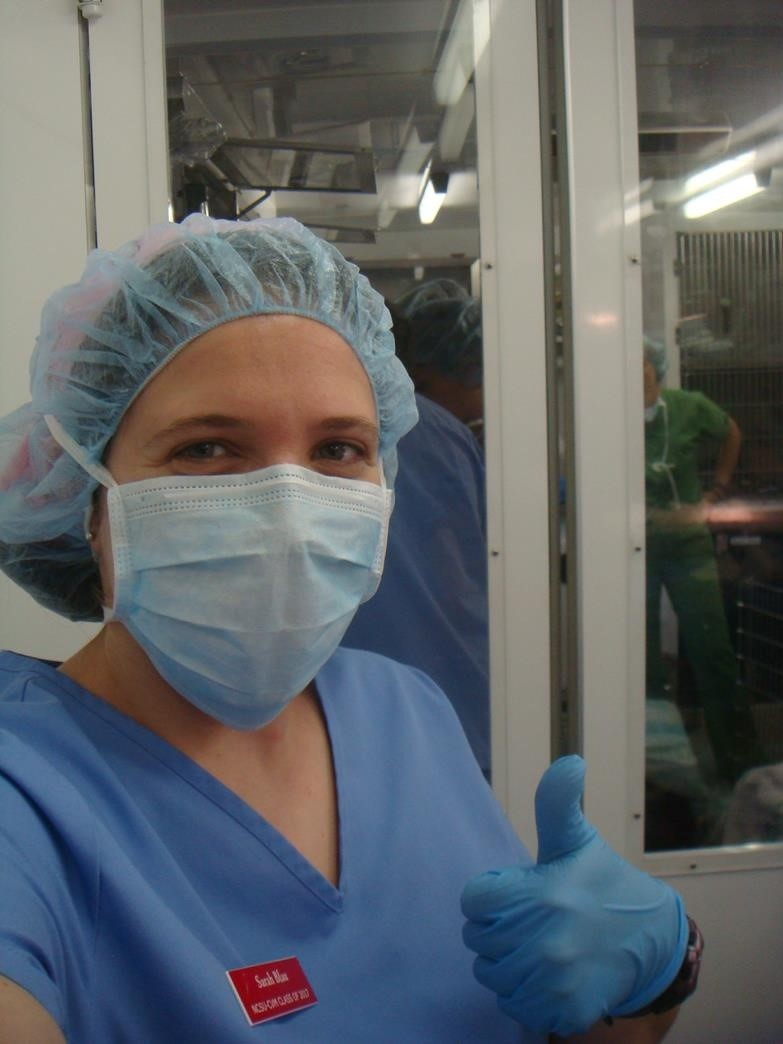face_with_mask: (16, 213, 403, 731)
